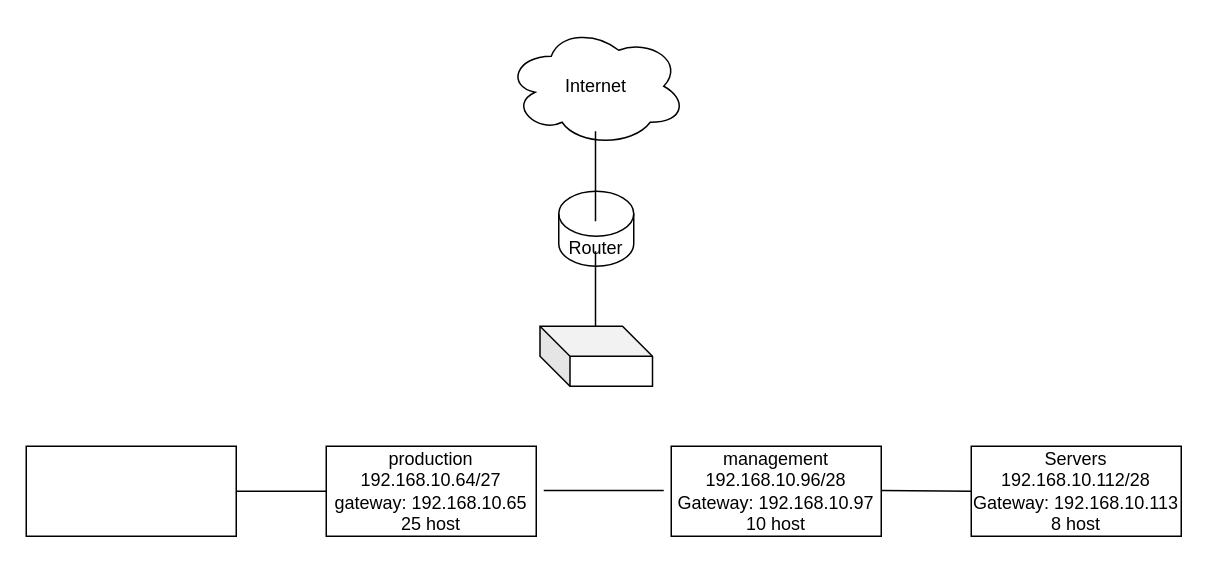
This 1208x563 diagram has some shape labels left out. Here are the shapes that lost their labels. From the top down, the box of each, then its label:
(538, 325, 652, 386): Core Switch
(25, 445, 236, 536): Guest Wifi 192.168.10.0/26 Gateway: 192.168.10.01 40 host
